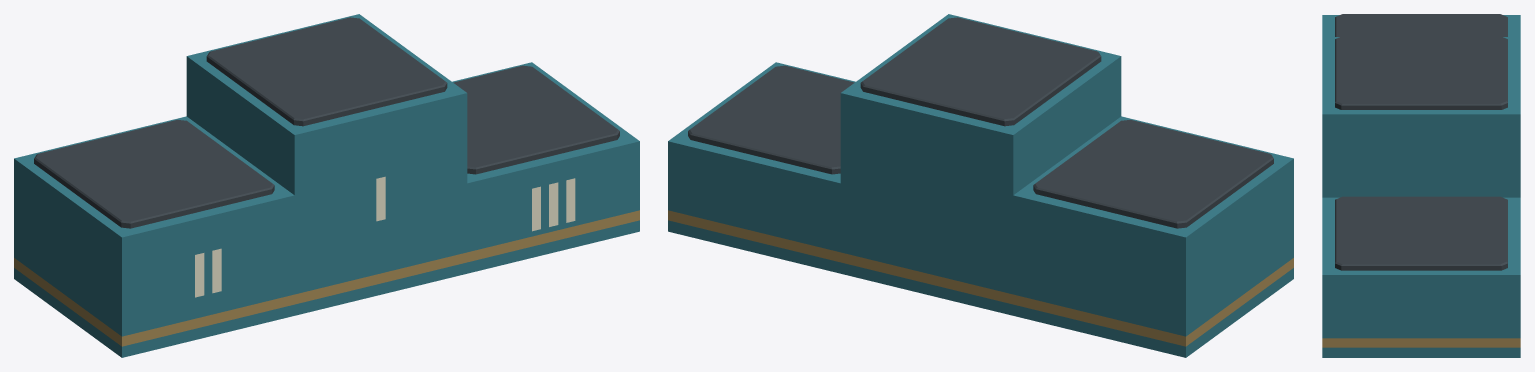
3 renders of one model, left to right at view 1: azimuth 30°, elevation 25°; view 2: azimuth 150°, elevation 25°; view 3: azimuth 270°, elevation 25°, orthographic. The views are drawn at different scales.
Parts seen in each view (by area): view 1: ContinuousThreeHeightAwardsShell, FirstWholeChamferTread, SecondWholeChamferTread, ThirdWholeChamferTread; view 2: ContinuousThreeHeightAwardsShell, FirstWholeChamferTread, SecondWholeChamferTread, ThirdWholeChamferTread; view 3: ContinuousThreeHeightAwardsShell, ThirdWholeChamferTread, FirstWholeChamferTread, SecondWholeChamferTread.
Part boxes in pixels (box(x1,y1,x2,y2)): ContinuousThreeHeightAwardsShell: box(14, 14, 639, 357); FirstWholeChamferTread: box(206, 17, 447, 126); SecondWholeChamferTread: box(34, 119, 274, 228); ThirdWholeChamferTread: box(453, 65, 619, 174); ContinuousThreeHeightAwardsShell: box(668, 14, 1293, 357); FirstWholeChamferTread: box(860, 17, 1101, 126); SecondWholeChamferTread: box(1033, 119, 1273, 228); ThirdWholeChamferTread: box(688, 65, 854, 174); ContinuousThreeHeightAwardsShell: box(1322, 15, 1520, 357); ThirdWholeChamferTread: box(1335, 196, 1507, 270); FirstWholeChamferTread: box(1335, 36, 1507, 109); SecondWholeChamferTread: box(1335, 14, 1507, 36).
Size of the model in its own units: 2.16 by 0.745 by 0.78.
